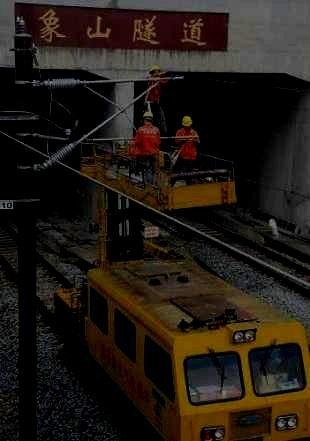helmet: (148, 65, 161, 79), (181, 115, 192, 130), (143, 111, 153, 124)
